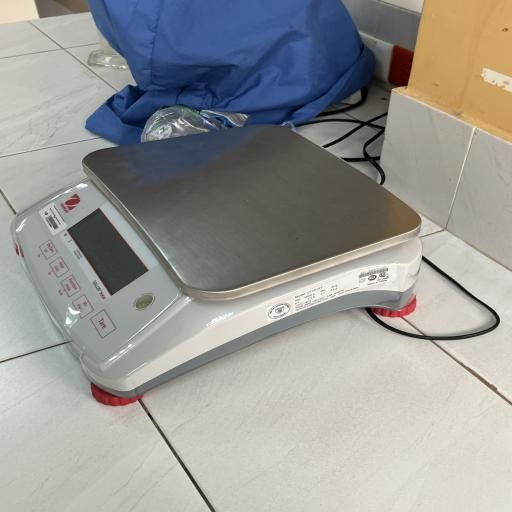Balanza_Granataria_Ohaus: (4, 121, 456, 410)
